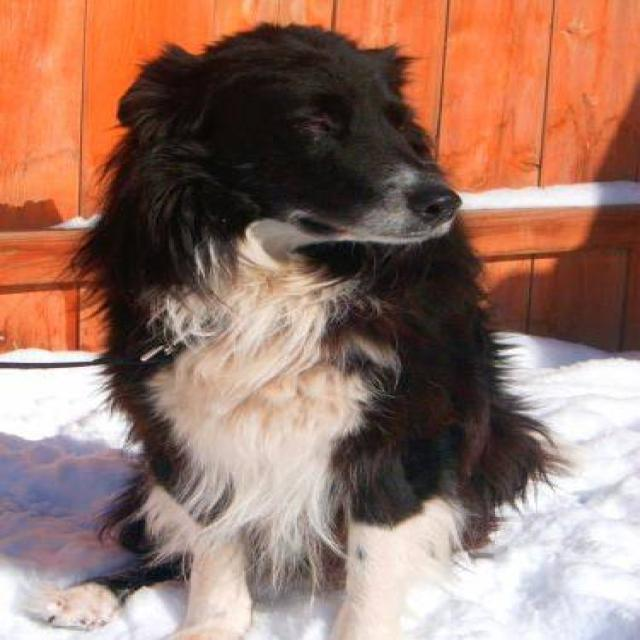dog: (27, 19, 572, 639)
